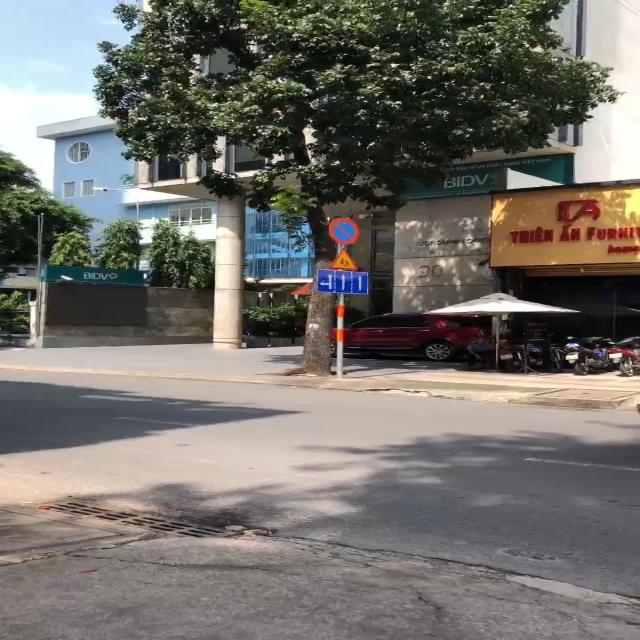Bien bao tre em: (328, 246, 365, 271)
